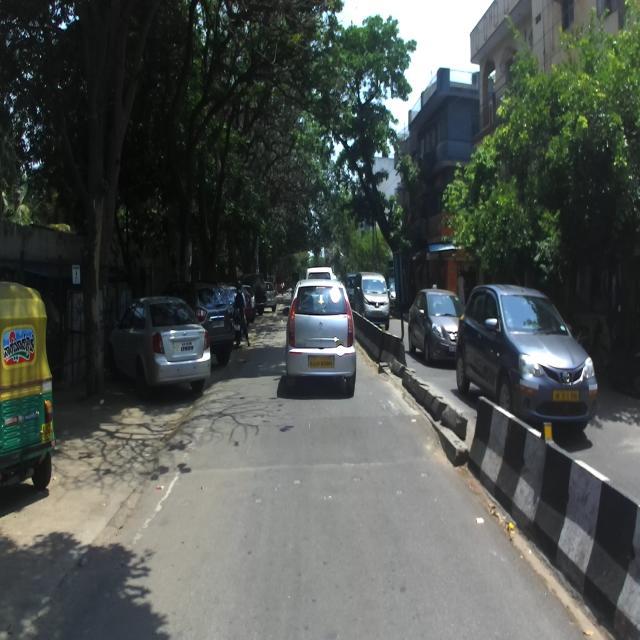auto ahead at: (0, 265, 56, 493)
car ahead at: (459, 281, 600, 424), (117, 289, 214, 398), (283, 270, 363, 396)
tree ahead at: (56, 52, 117, 407)
